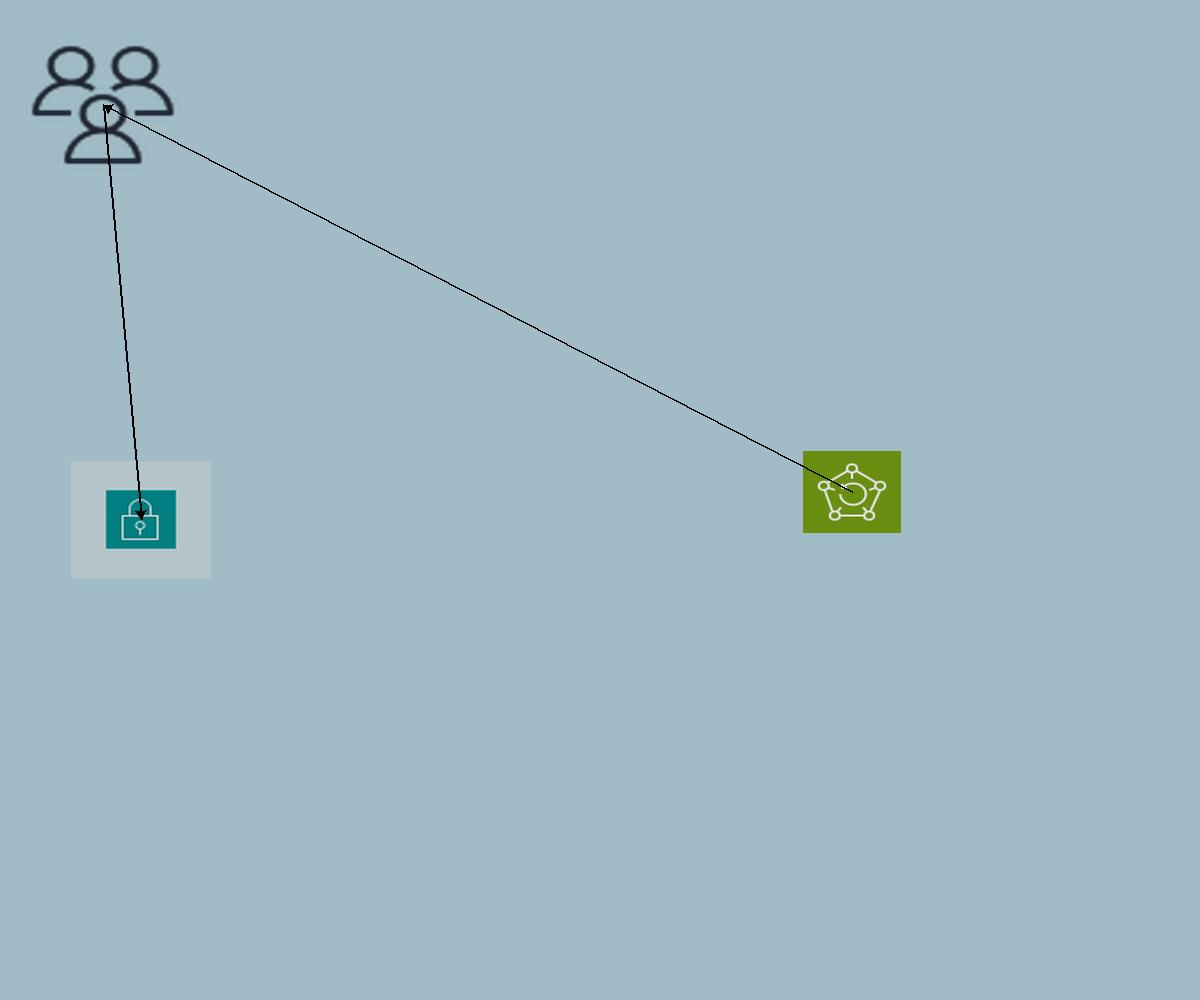AWS-Backup: (803, 451, 901, 533)
AWS-Private-subnet: (71, 461, 211, 578)
AWS-Res_Users: (26, 41, 180, 169)
